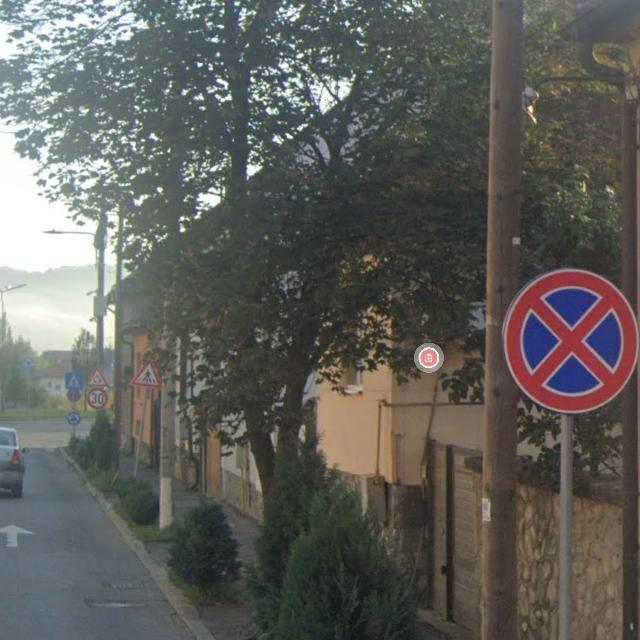forb_speed_over_30: (87, 387, 108, 409)
forb_waiting: (502, 264, 640, 414)
info_crosswalk: (66, 373, 83, 390)
warn_crosswalk: (130, 358, 162, 387)
